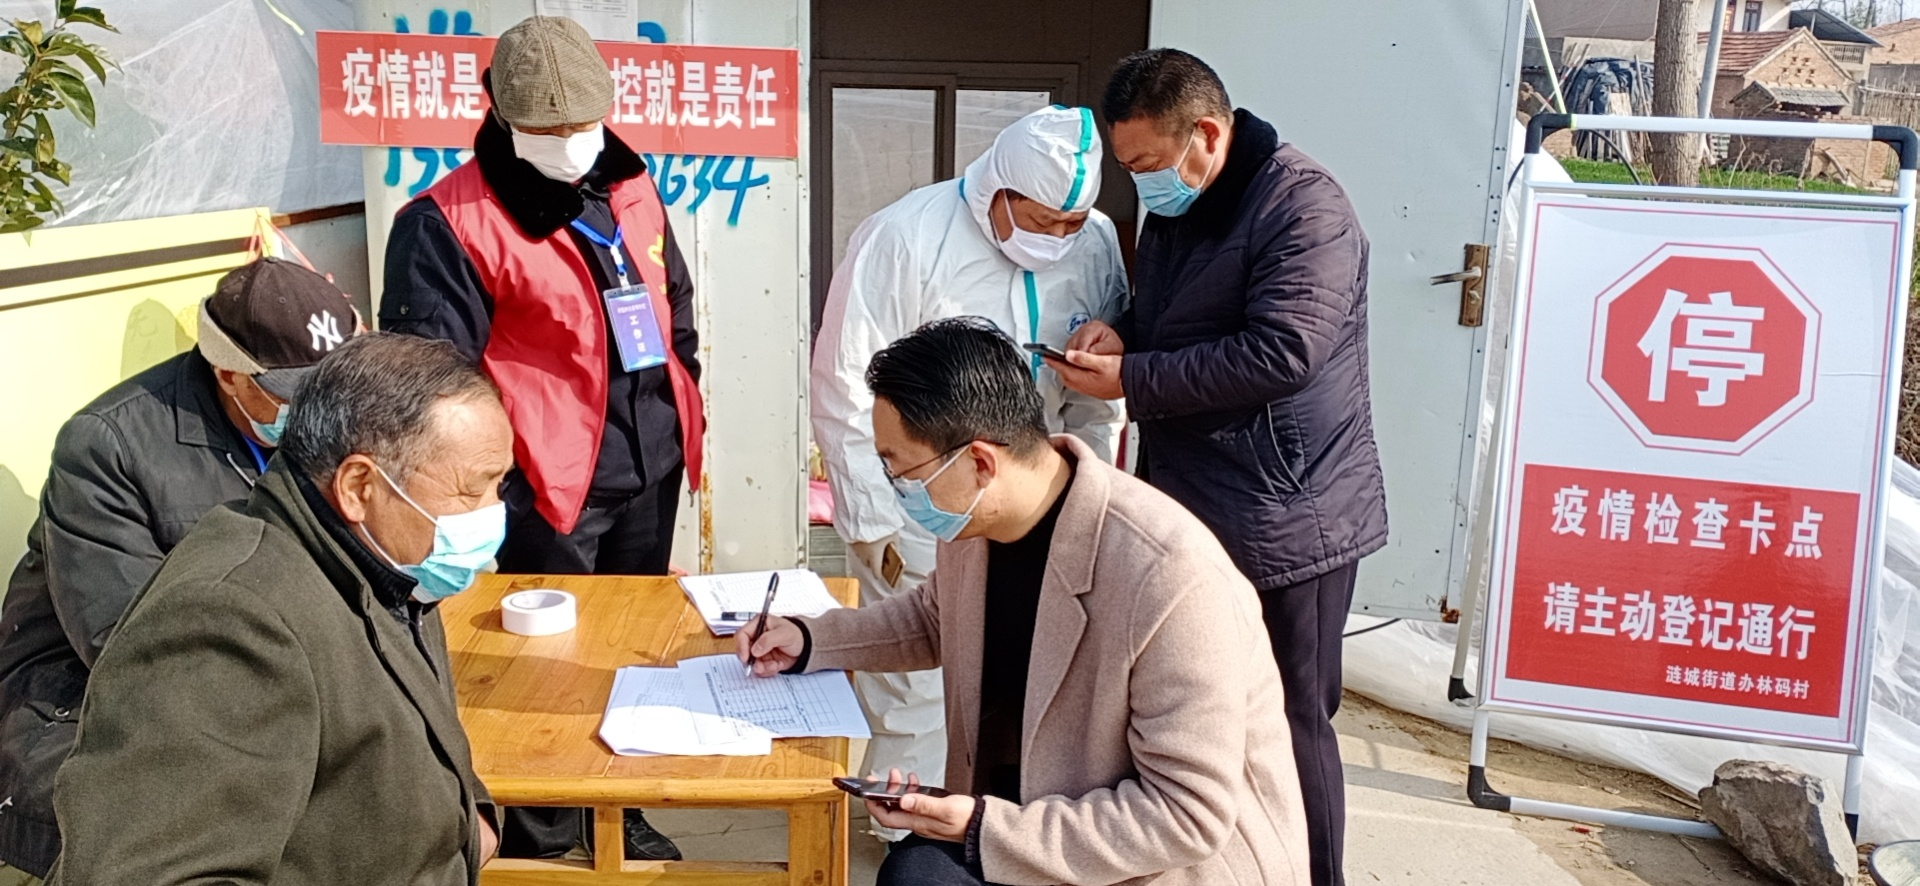correctlyWear: (332, 425, 516, 607), (873, 403, 997, 543), (1107, 113, 1221, 219), (996, 173, 1091, 273), (509, 91, 605, 186), (219, 339, 301, 447)
